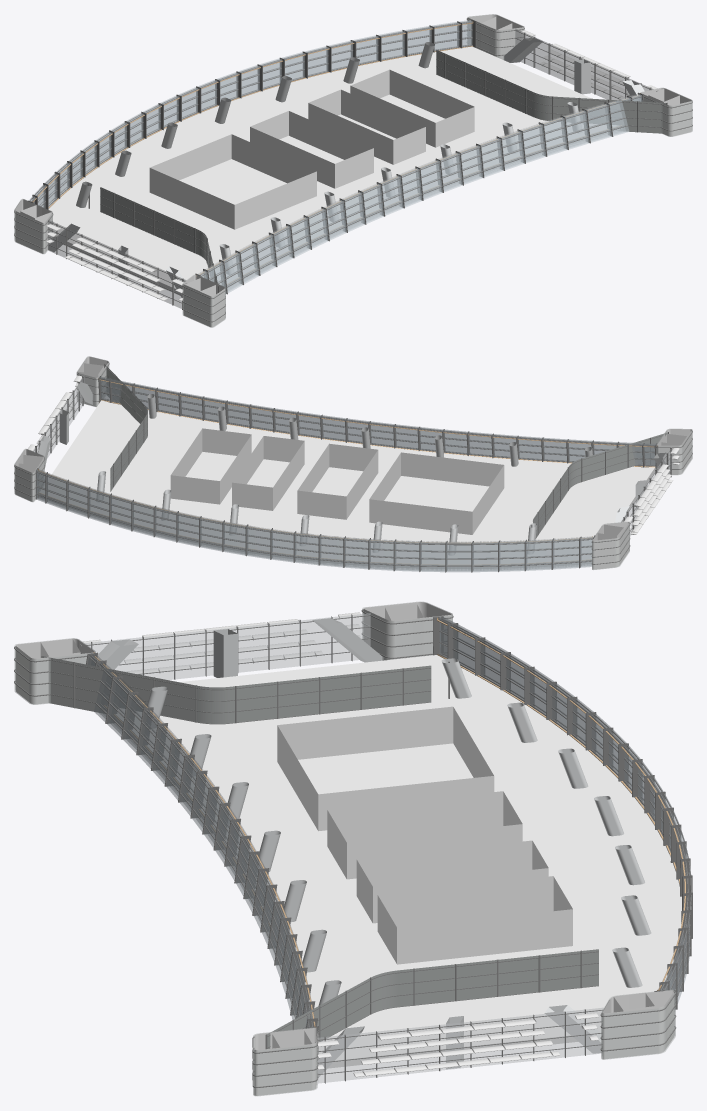
The picture shows the model from 3 angles, top to bottom: view 1: azimuth 30°, elevation 25°; view 2: azimuth 150°, elevation 25°; view 3: azimuth 270°, elevation 25°; orthographic projection. The views are drawn at different scales.
Parts seen in each view (by area): view 1: floor.047; view 2: floor.047; view 3: floor.047.
Boxes of the visible parts, x1,y1,x2,y2 form: floor.047: (14,14,692,327); floor.047: (14,356,692,572); floor.047: (14,601,692,1096).
Size of the model in its own units: 82.03 by 3.9 by 52.35.
Materials: 14 (1 with a texture image).
